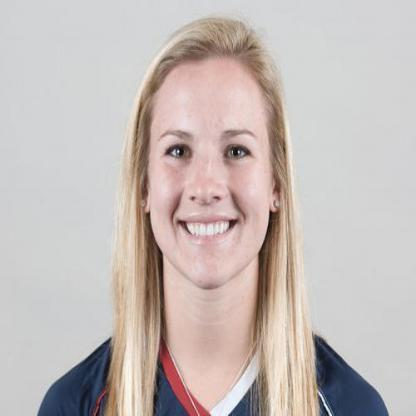long-hair: (101, 292, 318, 353)
